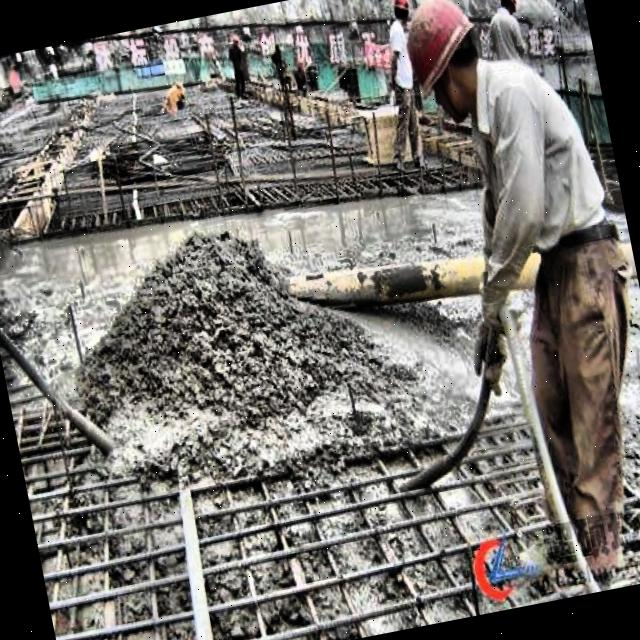helmet: (392, 0, 494, 127), (494, 0, 523, 20), (389, 0, 413, 24)
